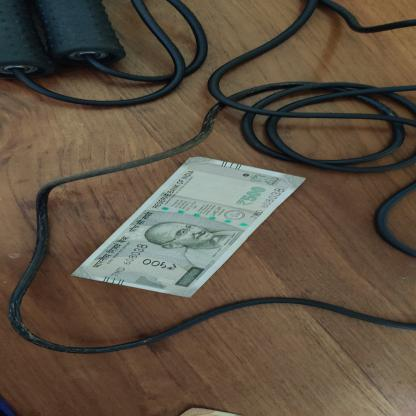New500Front: (68, 154, 309, 299)
